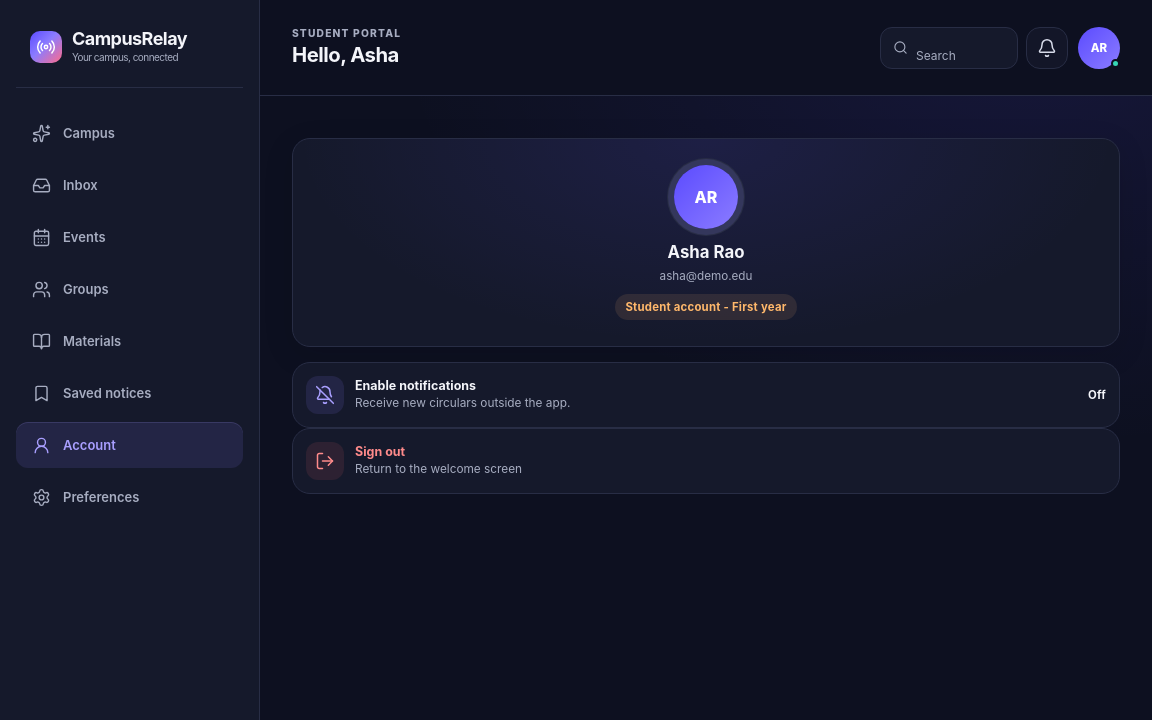
Scenario: StudentPortal Tier 2 controls › shows a retryable error when notification worker registration fails
Click the button "Enable notifications": x=325, y=395 [293,363,1119,427]
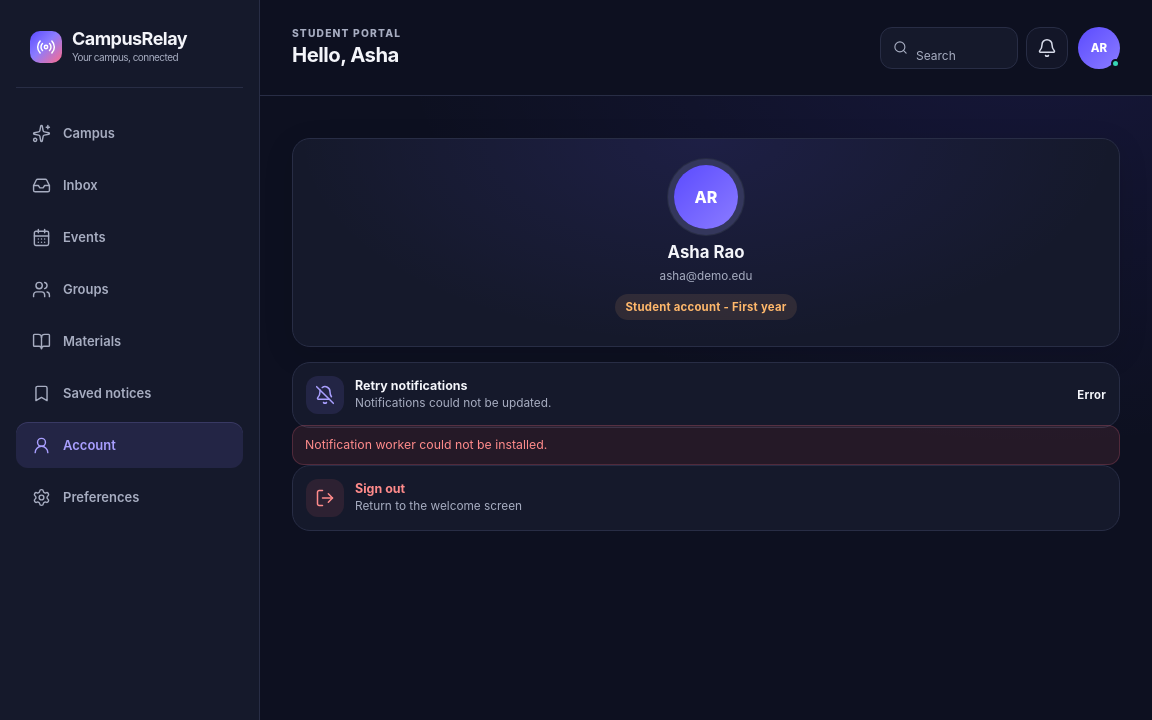
Now the message reads "Notification worker could not be installed.", box [305,437,547,452]
